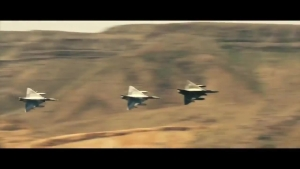flight: (177, 79, 221, 106), (118, 85, 160, 111), (18, 86, 57, 111)
